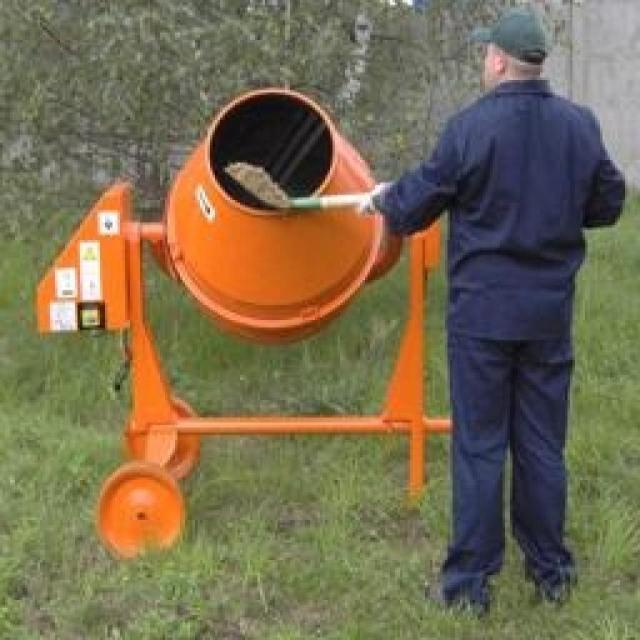Helmet: (415, 53, 625, 487), (470, 0, 558, 80)
